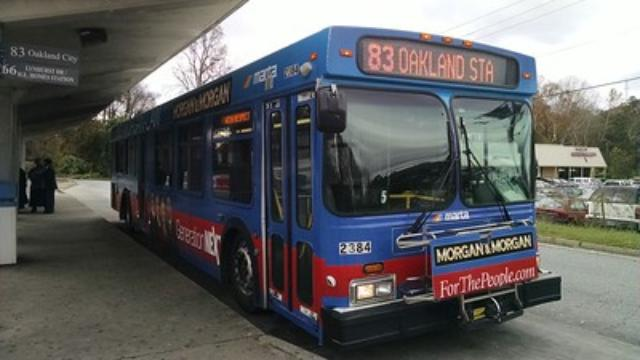bus: (107, 24, 562, 349)
